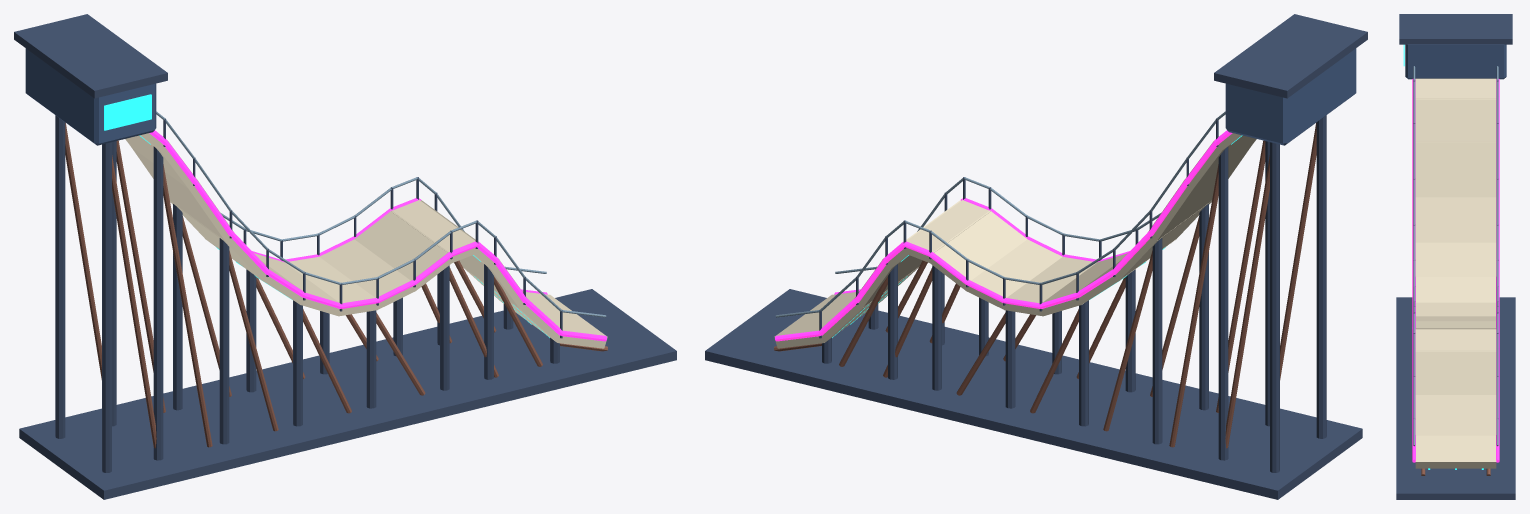
The model's file is big-air-v2.glb.
3 views of the same model, side by side, from view 1: azimuth 30°, elevation 25°; view 2: azimuth 150°, elevation 25°; view 3: azimuth 270°, elevation 25° (orthographic). The views are drawn at different scales.
Parts seen in each view (by area): view 1: Ramp footing, Takeoff roof, Takeoff room, Support column.001, Snow ramp surface.009, Support column.002, Support column, Snow ramp surface.008, Support column.004, Snow ramp surface.010, Snow ramp surface.007, Snow ramp surface.003 (+19 smaller); view 2: Ramp footing, Takeoff roof, Takeoff room, Support column, Snow ramp surface.009, Support column.003, Support column.001, Snow ramp surface.008, Support column.005, Snow ramp surface.010, Snow ramp surface.007, Snow ramp surface.003 (+18 smaller); view 3: Ramp footing, Snow ramp surface.003, Snow ramp surface.004, Snow ramp surface.002, Snow ramp surface.012, Takeoff room, Takeoff roof, Snow ramp surface.013, Snow ramp surface.005, Snow ramp surface.014, Snow ramp surface.006, Snow ramp surface.011 (+8 smaller).
Boxes of the visible parts, x1=… form: Ramp footing: x1=19, y1=289, x2=676, y2=499; Takeoff roof: x1=14, y1=14, x2=167, y2=98; Takeoff room: x1=25, y1=48, x2=156, y2=145; Support column.001: x1=55, y1=115, x2=65, y2=438; Snow ramp surface.009: x1=354, y1=210, x2=453, y2=290; Support column.002: x1=153, y1=146, x2=163, y2=460; Support column: x1=102, y1=142, x2=111, y2=472; Snow ramp surface.008: x1=319, y1=239, x2=416, y2=309; Support column.004: x1=219, y1=238, x2=229, y2=444; Snow ramp surface.010: x1=391, y1=200, x2=475, y2=262; Snow ramp surface.007: x1=285, y1=257, x2=377, y2=316; Snow ramp surface.003: x1=131, y1=147, x2=233, y2=241; Ramp footing: x1=705, y1=289, x2=1362, y2=499; Takeoff roof: x1=1214, y1=14, x2=1367, y2=98; Takeoff room: x1=1225, y1=48, x2=1356, y2=145; Support column: x1=1316, y1=115, x2=1326, y2=438; Snow ramp surface.009: x1=928, y1=210, x2=1027, y2=290; Support column.003: x1=1218, y1=146, x2=1228, y2=460; Support column.001: x1=1270, y1=142, x2=1279, y2=472; Snow ramp surface.008: x1=965, y1=239, x2=1062, y2=309; Support column.005: x1=1152, y1=238, x2=1162, y2=444; Snow ramp surface.010: x1=903, y1=200, x2=990, y2=262; Snow ramp surface.007: x1=1003, y1=257, x2=1096, y2=316; Snow ramp surface.003: x1=1148, y1=147, x2=1250, y2=242; Ramp footing: x1=1396, y1=297, x2=1515, y2=499; Snow ramp surface.003: x1=1415, y1=140, x2=1496, y2=197; Snow ramp surface.004: x1=1415, y1=197, x2=1496, y2=242; Snow ramp surface.002: x1=1415, y1=98, x2=1496, y2=142; Snow ramp surface.012: x1=1415, y1=350, x2=1496, y2=394; Takeoff room: x1=1405, y1=44, x2=1506, y2=79; Takeoff roof: x1=1399, y1=14, x2=1512, y2=44; Snow ramp surface.013: x1=1415, y1=395, x2=1496, y2=435; Snow ramp surface.005: x1=1415, y1=242, x2=1496, y2=276; Snow ramp surface.014: x1=1415, y1=435, x2=1496, y2=468; Snow ramp surface.006: x1=1416, y1=277, x2=1495, y2=302; Snow ramp surface.011: x1=1415, y1=329, x2=1496, y2=351.
Bounding box in the file's own units: 7.9 × 5.33 × 2.
